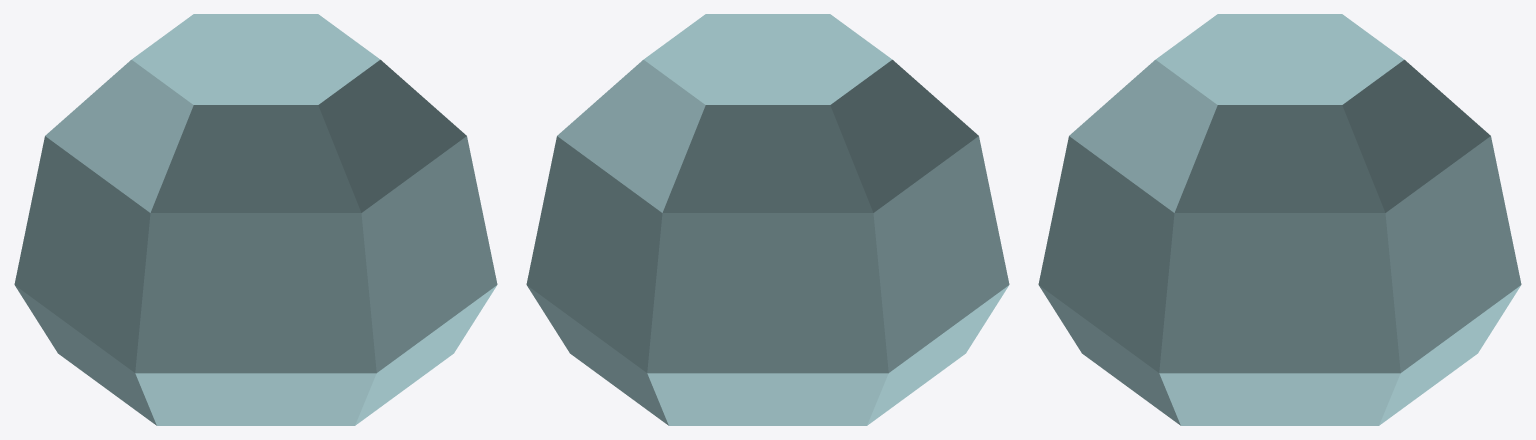
The model's file is stone_small9.obj.
The picture shows the model from 3 angles, left to right: view 1: azimuth 30°, elevation 25°; view 2: azimuth 150°, elevation 25°; view 3: azimuth 270°, elevation 25°; orthographic projection.
Visible parts, largest first — view 1: stone_small9; view 2: stone_small9; view 3: stone_small9.
Part boxes in pixels (x1,y1,x2,y2): stone_small9: (14,14,497,425); stone_small9: (526,14,1009,425); stone_small9: (1038,14,1521,425).
Size of the model in its own units: 3.58 by 2.78 by 4.14.
